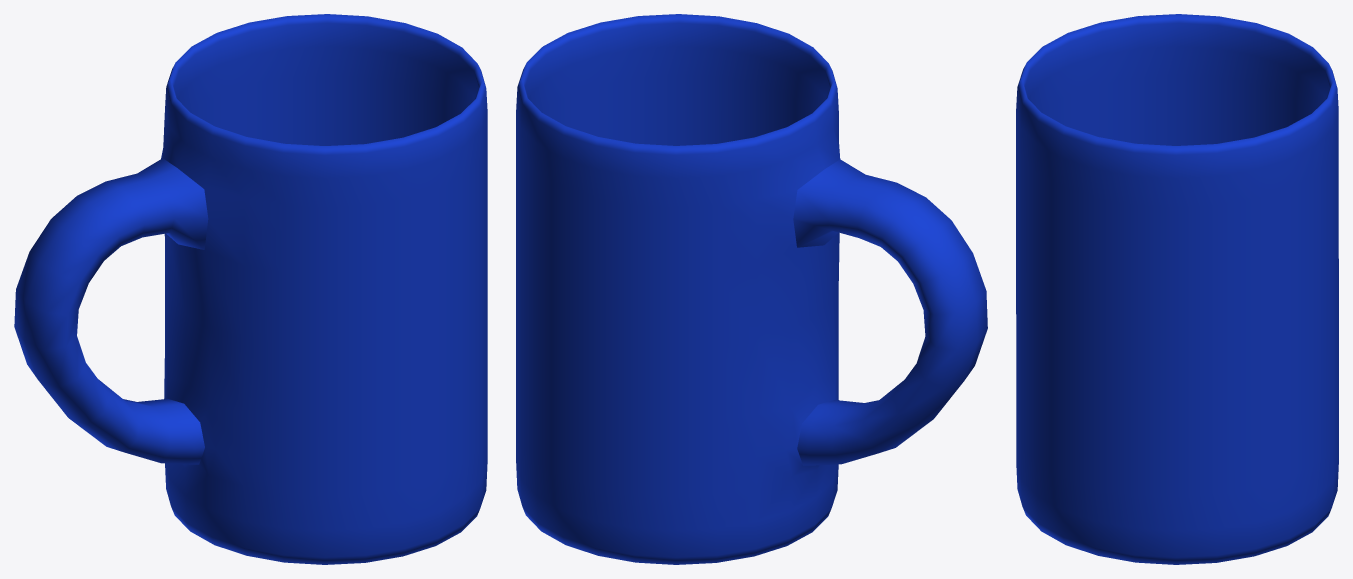
Rendered from mug.fbx.
3 renders of one model, left to right at view 1: azimuth 30°, elevation 25°; view 2: azimuth 150°, elevation 25°; view 3: azimuth 270°, elevation 25°, orthographic.
Visible parts, largest first — view 1: Mug, Handle; view 2: Mug, Handle; view 3: Mug.
Boxes of the visible parts, x1,y1,x2,y2 form: Mug: (161, 14, 487, 564); Handle: (14, 158, 208, 464); Mug: (516, 14, 840, 564); Handle: (793, 159, 987, 465); Mug: (1016, 14, 1338, 564).
Size of the model in its own units: 0.4621 by 0.4198 by 0.2931.
